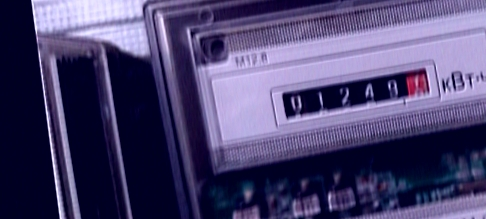0: (289, 91, 305, 113)
1: (314, 88, 326, 109)
2: (338, 85, 353, 107)
4: (362, 81, 376, 101)
7: (409, 70, 424, 90)
9: (385, 78, 401, 100)
screen: (262, 61, 441, 128)
